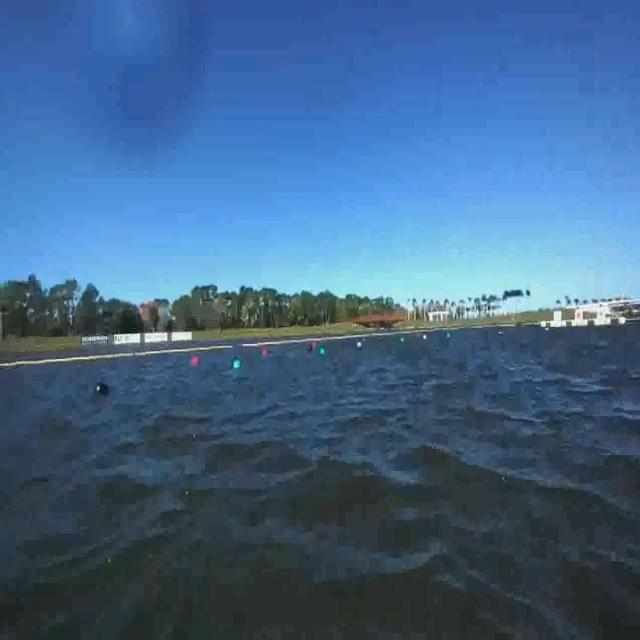black-buoy: (96, 382, 111, 398)
green-buoy: (230, 358, 243, 378)
red-buoy: (191, 354, 198, 368)
